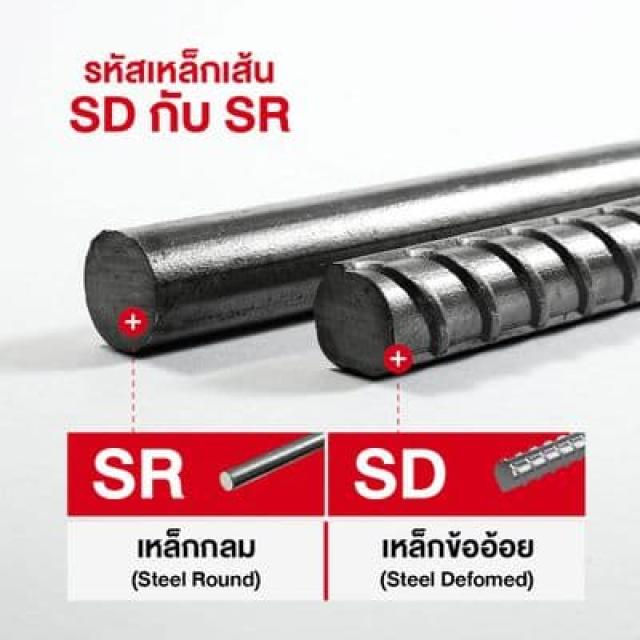Rebar: (83, 230, 170, 358), (314, 269, 403, 381)
